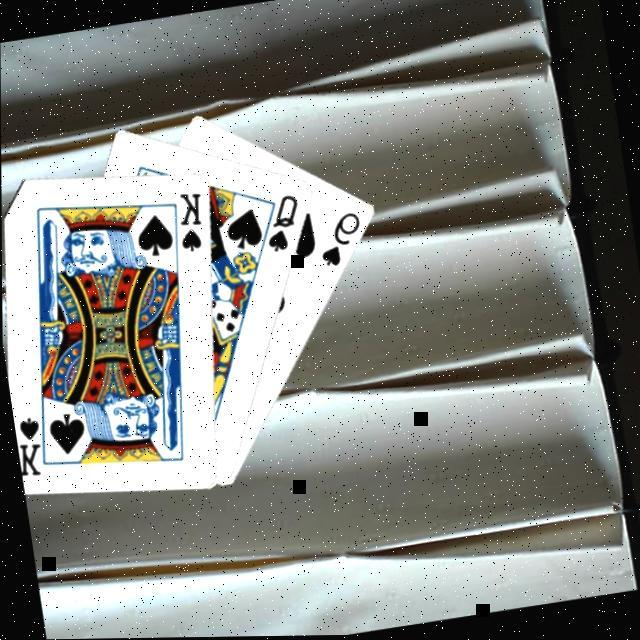9S: (314, 208, 372, 274)
KS: (12, 407, 58, 480), (173, 188, 214, 258)
QS: (261, 190, 310, 258)
